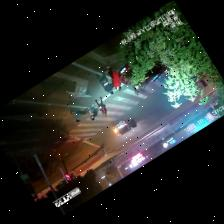person: (96, 66, 113, 93), (106, 66, 121, 89), (95, 96, 106, 115), (89, 104, 98, 119)
